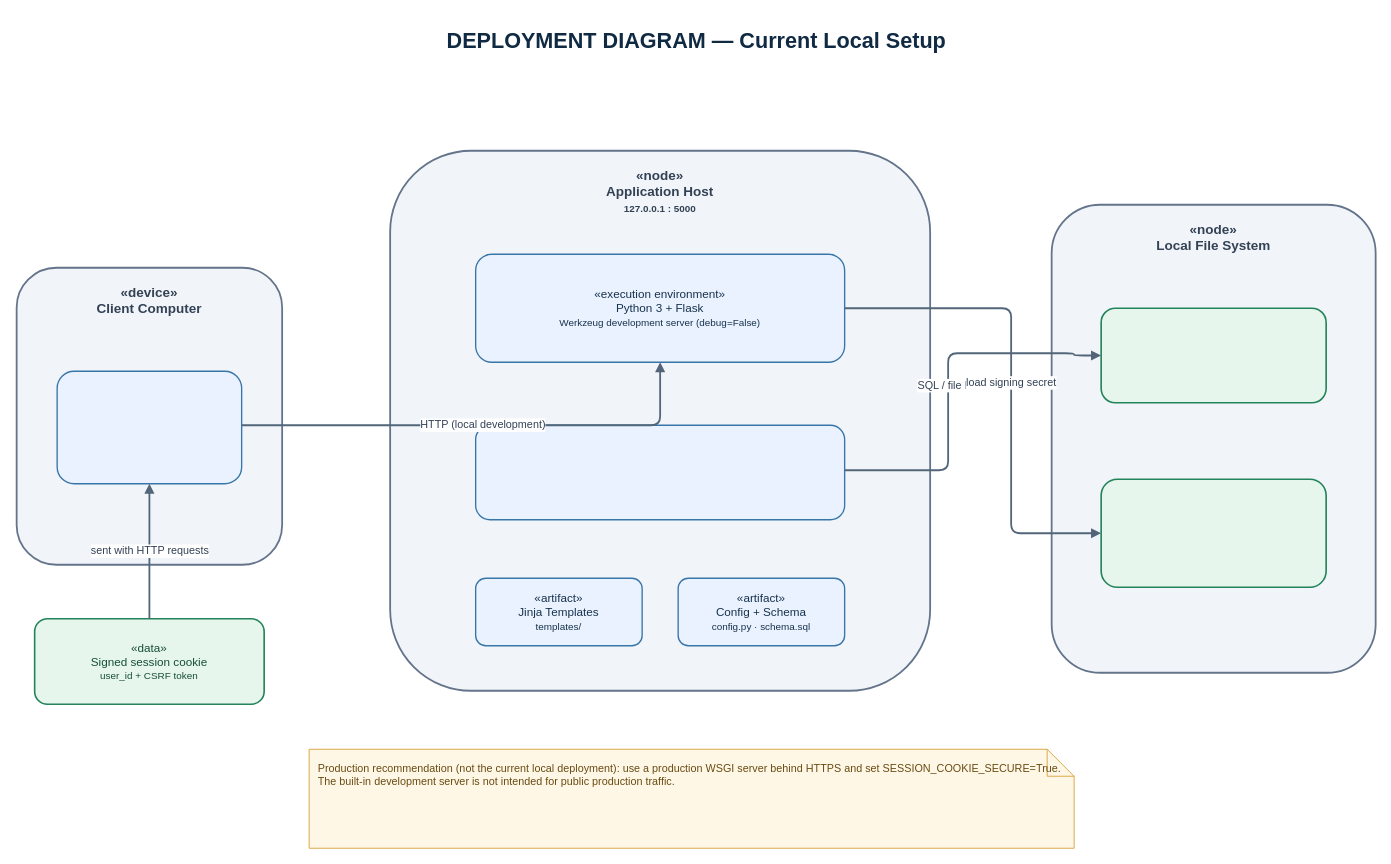
This 1391x864 diagram has some shape labels left out. Here are the shapes that lost their labels. From the top down, the centre of each, then its label:
the point at 1213,355: «database» SQLite database instance/task1.db
the point at 149,427: «execution environment» Web Browser HTML forms · Cookie storage
the point at 660,472: «artifact» Authentication Application app.py · auth_service.py · repository.py
the point at 1213,533: «protected file» Session signing key instance/secret_key OR SECRET_KEY env
